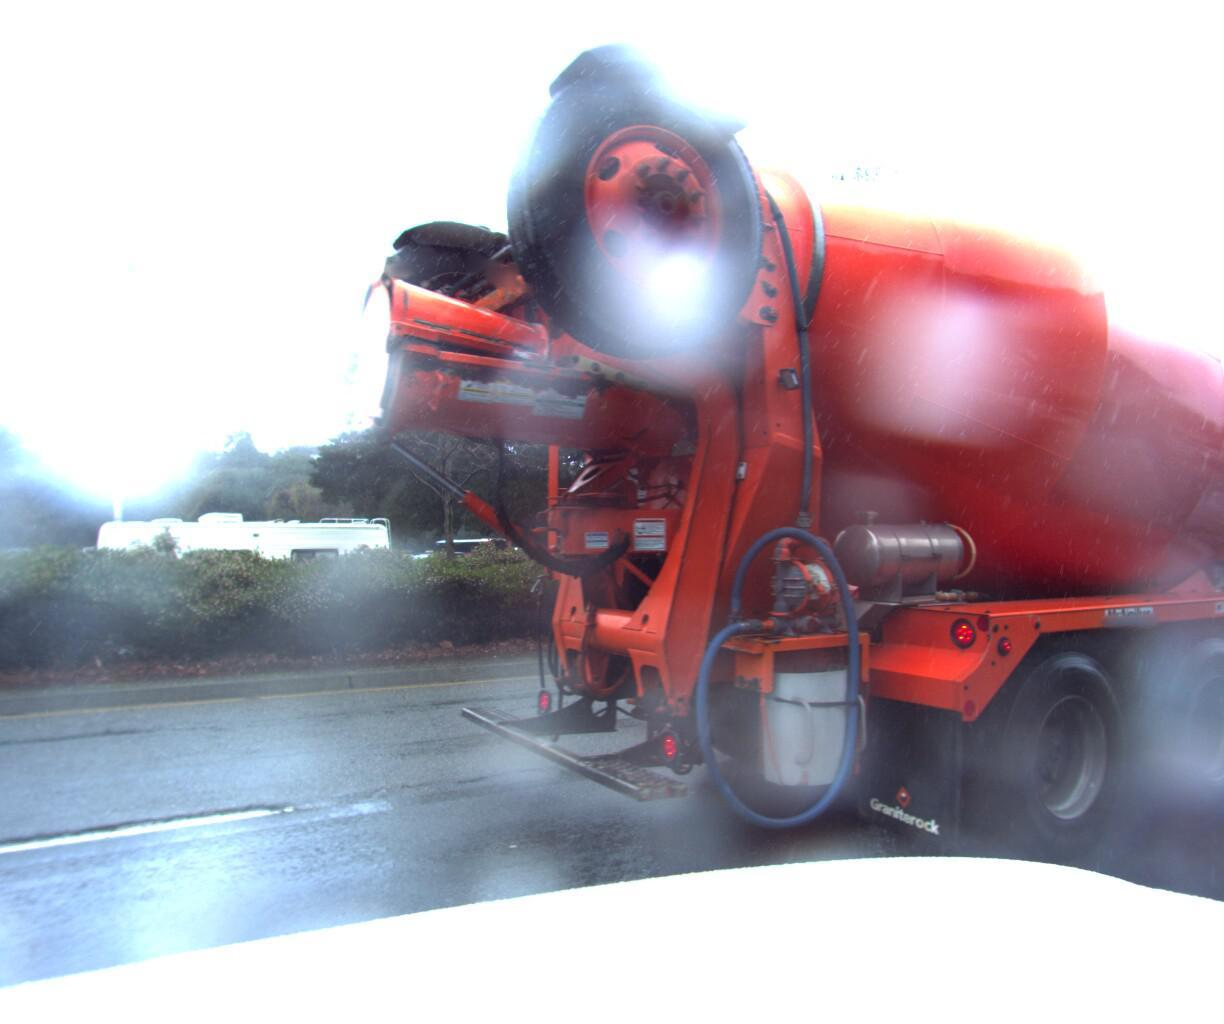other_vehicle: (83, 500, 414, 637)
truck: (270, 0, 1224, 1024)
